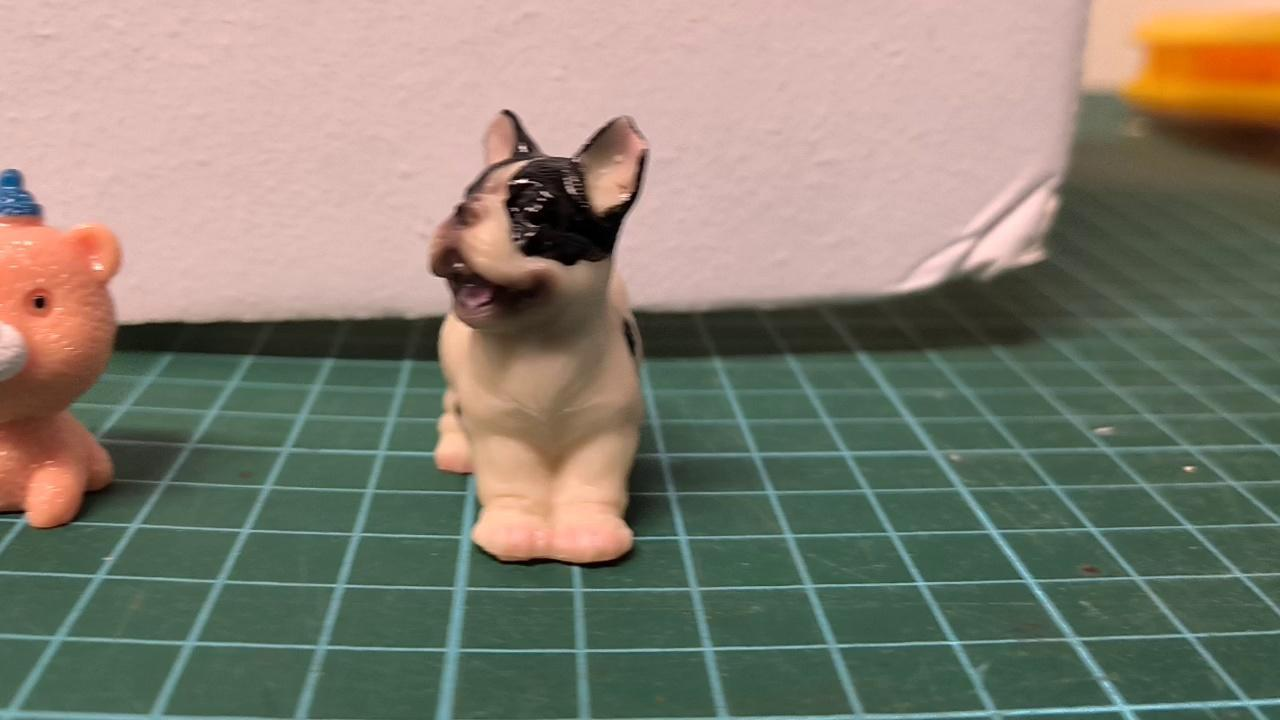pet: (427, 105, 659, 566)
